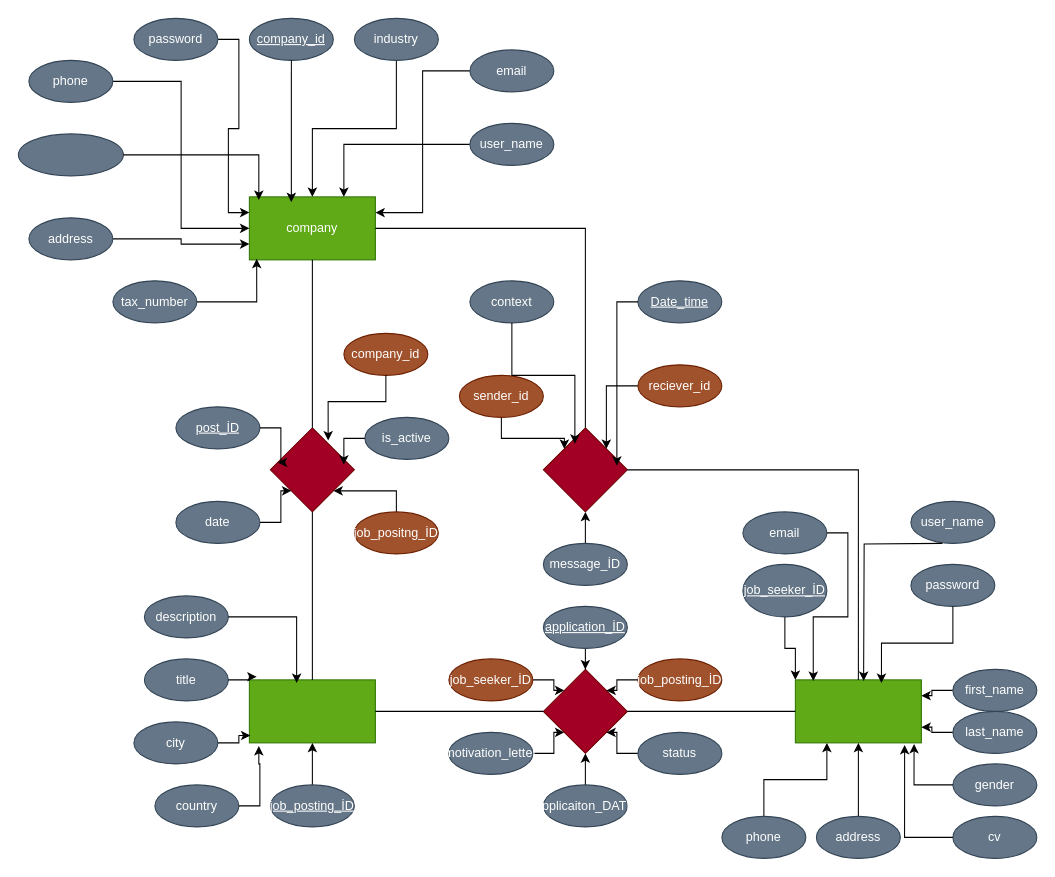
Some shapes in this 1055 by 877 pixel diagram are drawn without their labels. Each missing label, with the box of its shape:
applies: (542, 668, 627, 753)
company_name: (17, 133, 123, 176)
job_posting: (248, 679, 375, 743)
job_seeker: (794, 679, 921, 743)
messages: (542, 427, 627, 512)
posts: (269, 427, 354, 512)
